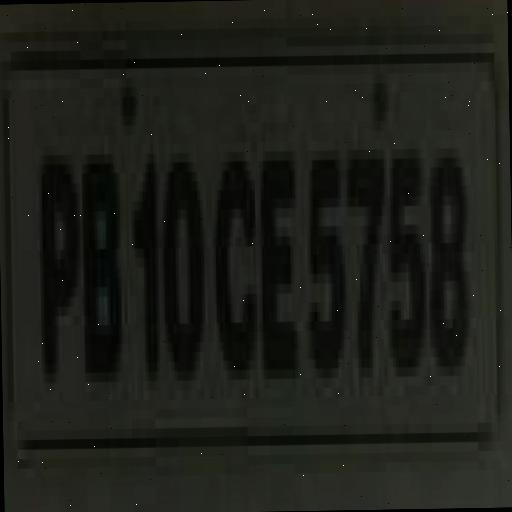number plate: (0, 33, 489, 459)
